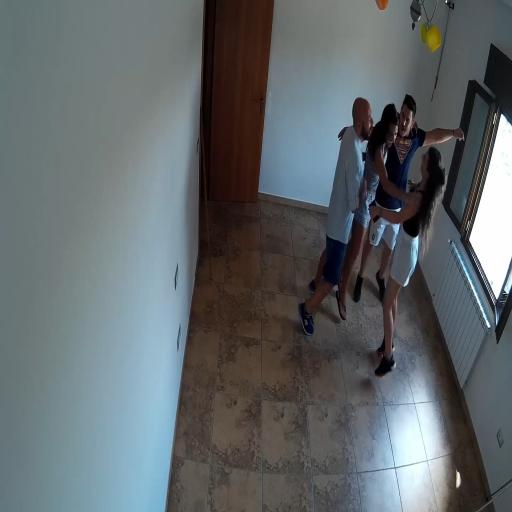nao-violencia: (286, 34, 468, 383)
